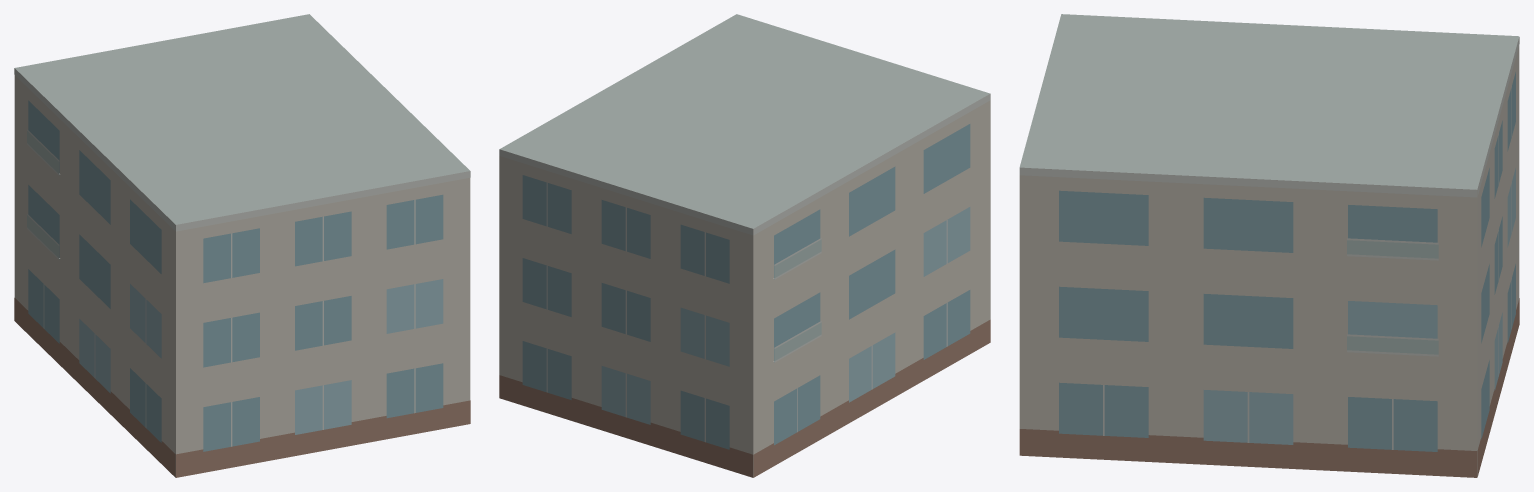
The model's file is survey-upis-32838299.glb.
3 renders of one model, left to right at view 1: azimuth 30°, elevation 25°; view 2: azimuth 150°, elevation 25°; view 3: azimuth 270°, elevation 25°, orthographic. The views are drawn at different scales.
Visible parts, largest first — view 1: survey-upis-32838299.tmp; view 2: survey-upis-32838299.tmp; view 3: survey-upis-32838299.tmp.
Part boxes in pixels (left/top/right/bottom): survey-upis-32838299.tmp: left=14, top=14, right=470, bottom=477; survey-upis-32838299.tmp: left=499, top=14, right=990, bottom=477; survey-upis-32838299.tmp: left=1019, top=14, right=1519, bottom=477.
Bounding box in the file's own units: 11.99 × 9.15 × 14.4.
